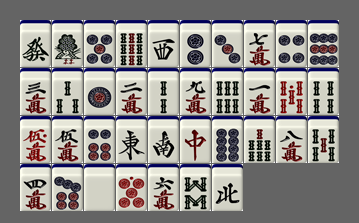0m: (20, 116, 51, 163)
0p: (116, 164, 147, 211)
0s: (276, 68, 307, 115)
1m: (244, 68, 275, 115)
1p: (84, 68, 115, 115)
1s: (52, 20, 83, 67)
1z: (116, 116, 147, 163)
2m: (116, 68, 147, 115)
2p: (180, 20, 211, 67)
2s: (148, 68, 179, 115)
2z: (148, 116, 179, 163)
3m: (20, 68, 51, 115)
3p: (212, 20, 243, 67)
3s: (52, 68, 83, 115)
3z: (148, 20, 179, 67)
4m: (20, 164, 51, 211)
4p: (276, 20, 307, 67)
4s: (308, 68, 339, 115)
4z: (212, 164, 243, 211)
5m: (52, 116, 83, 163)
5p: (84, 20, 115, 67)
5s: (308, 116, 339, 163)
5z: (84, 164, 115, 211)
6m: (148, 164, 179, 211)
6p: (84, 116, 115, 163)
6s: (212, 68, 243, 115)
6z: (20, 20, 51, 67)
7m: (244, 20, 275, 67)
7p: (52, 164, 83, 211)
7s: (244, 116, 275, 163)
7z: (180, 116, 211, 163)
8m: (276, 116, 307, 163)
8p: (212, 116, 243, 163)
8s: (180, 164, 211, 211)
9m: (180, 68, 211, 115)
9p: (308, 20, 339, 67)
9s: (116, 20, 147, 67)
